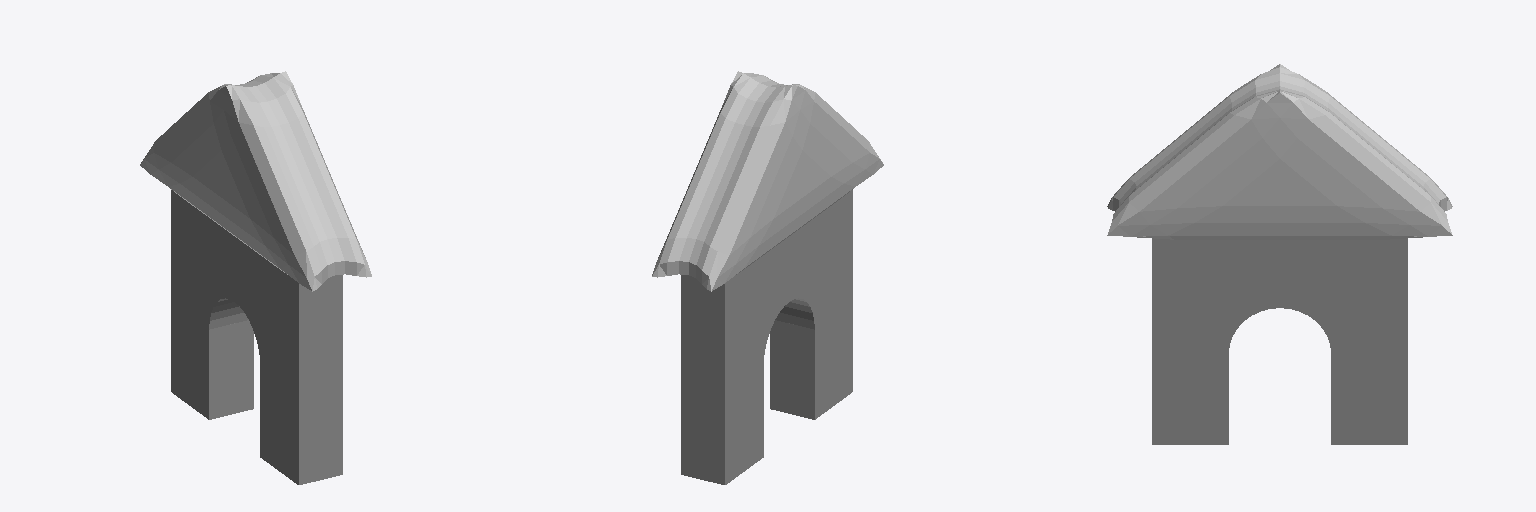
The model's file is windmill_base.obj.
The picture shows the model from 3 angles: view 1: azimuth 30°, elevation 25°; view 2: azimuth 150°, elevation 25°; view 3: azimuth 270°, elevation 25°; orthographic projection.
Visible parts, largest first — view 1: Cube, Cylinder_Cylinder.001; view 2: Cube, Cylinder_Cylinder.001; view 3: Cube, Cylinder_Cylinder.001.
Part boxes in pixels (x1,y1,x2,y2): Cube: (171,190,342,484); Cylinder_Cylinder.001: (140,71,371,291); Cube: (681,190,852,484); Cylinder_Cylinder.001: (652,71,883,291); Cube: (1152,238,1407,444); Cylinder_Cylinder.001: (1107,64,1452,239).
Size of the model in its own units: 3.12 by 15.33 by 13.51.